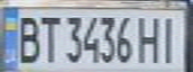3: (60, 11, 84, 64), (97, 12, 118, 64)
4: (81, 12, 100, 64)
6: (115, 12, 139, 64)
B: (12, 11, 42, 64)
H: (136, 12, 163, 64)
I: (154, 12, 184, 63)
T: (36, 11, 60, 63)
